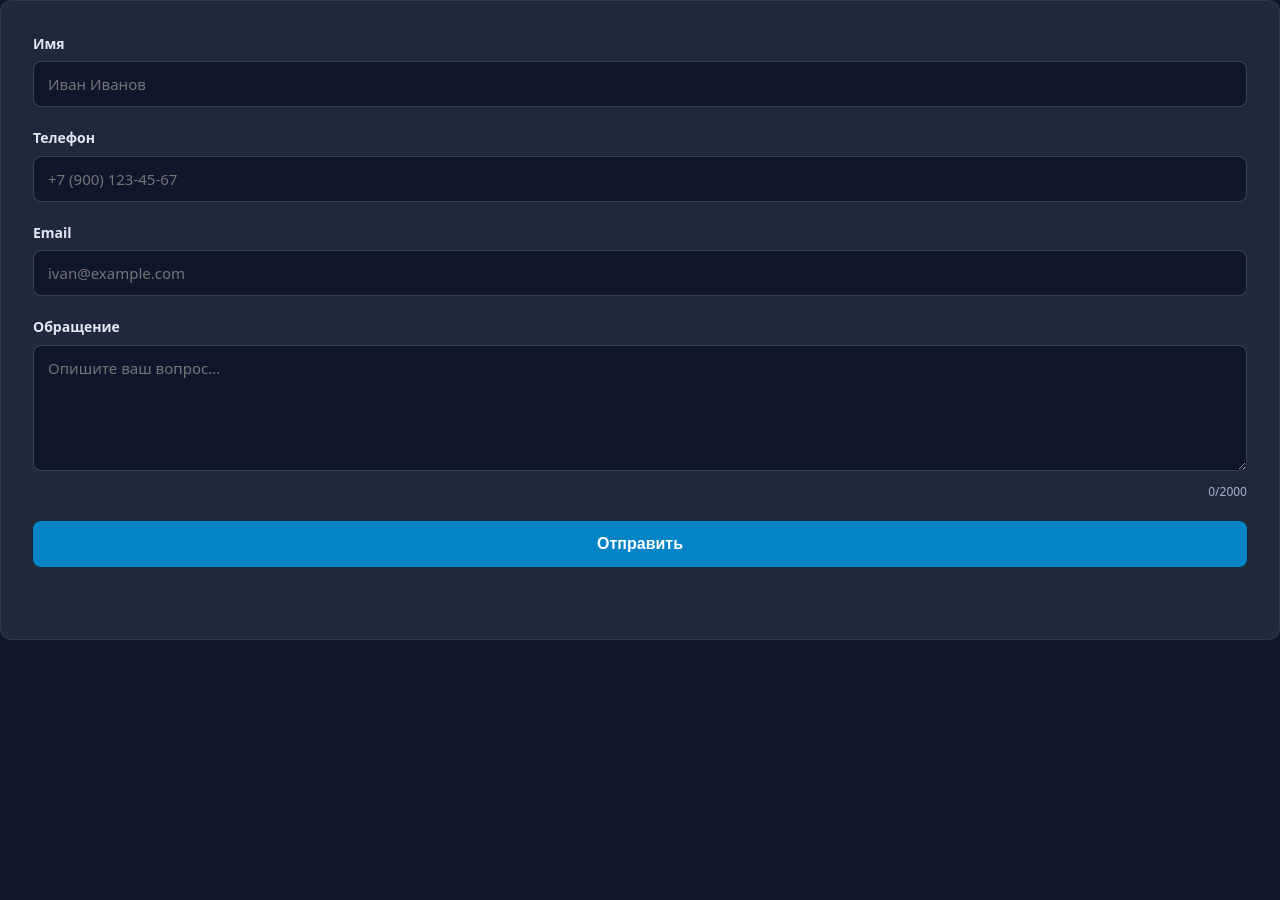
it: ContactForm › показывает ошибки при невалидном email и коротком комментарии
Type "Иван" into the field labelled "Имя" at (640,84), box [33, 61, 1247, 107]
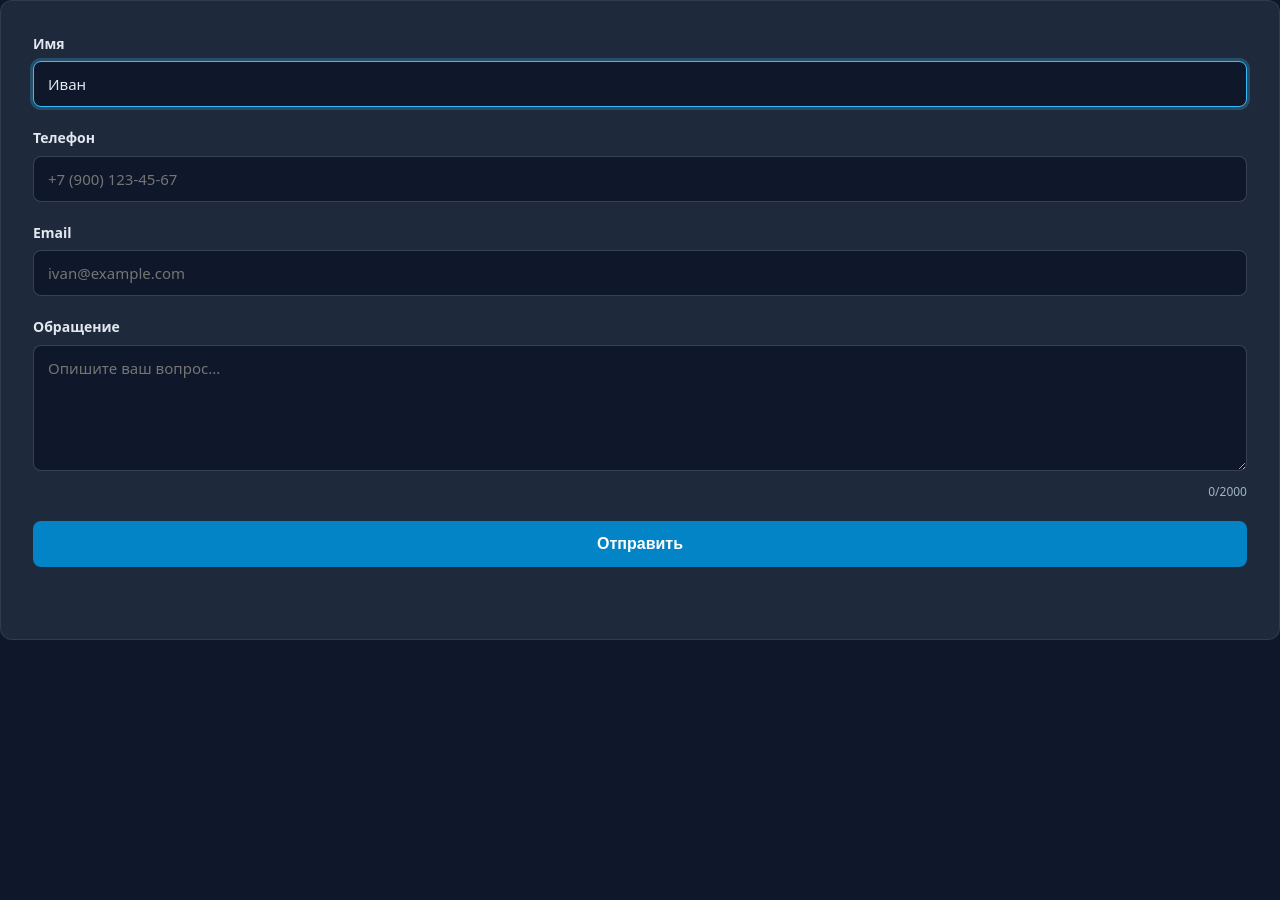
Type "+79001234567" into the field labelled "Телефон" at (640,179), box [33, 156, 1247, 202]
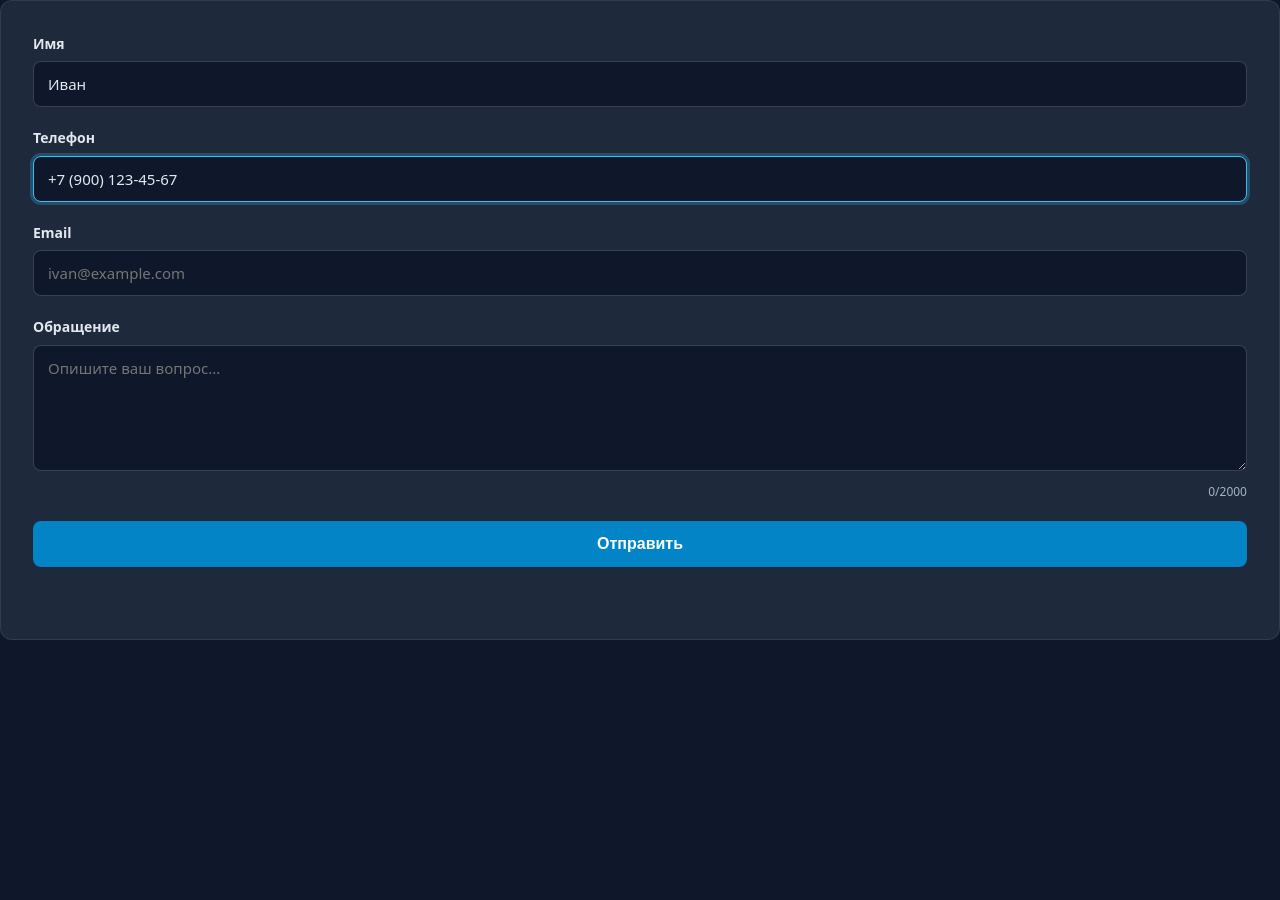
Type "not-an-email" into the field labelled "Email" at (640,273), box [33, 250, 1247, 296]
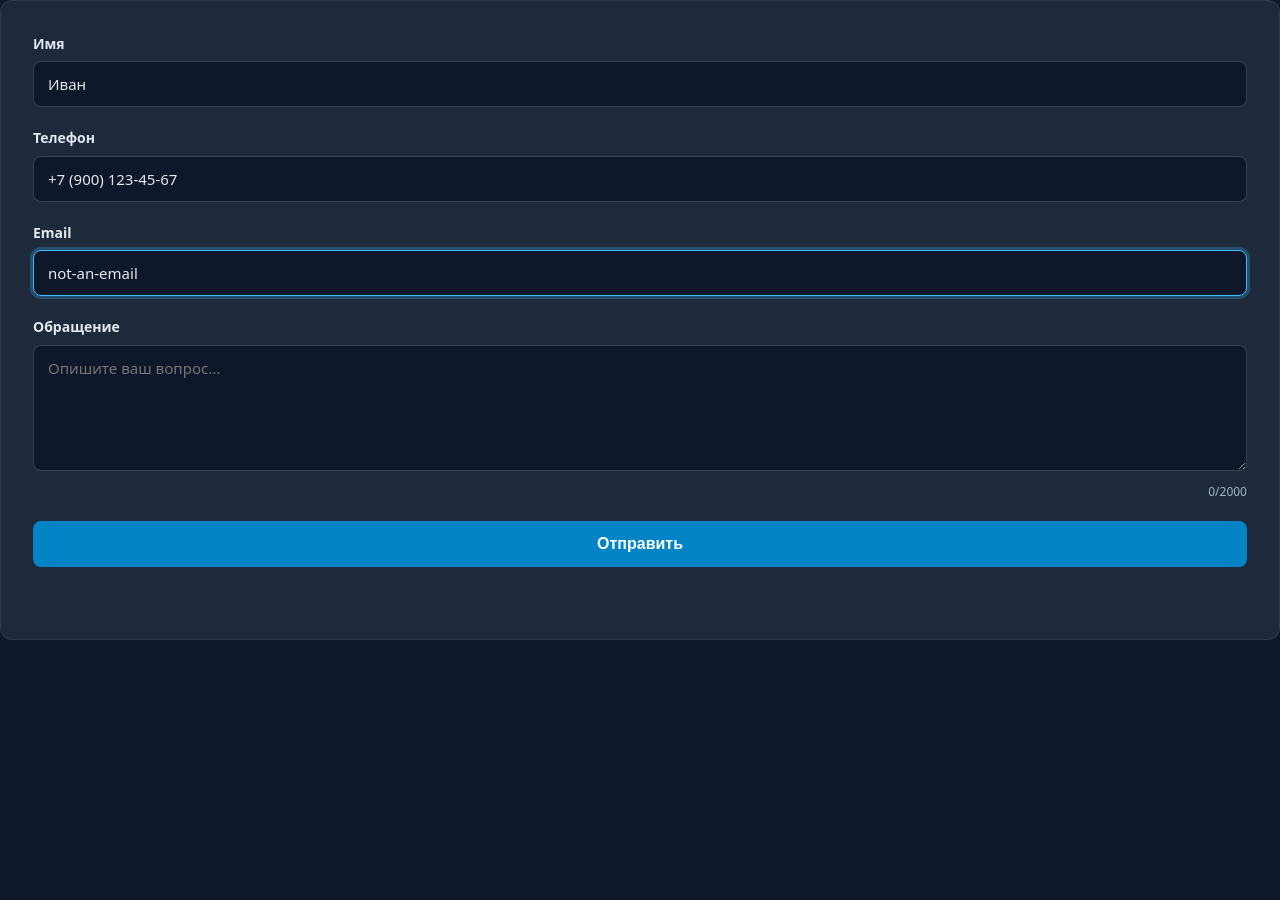
Type "коротко" into the text box labelled "Обращение" at (640,408), box [33, 345, 1247, 471]
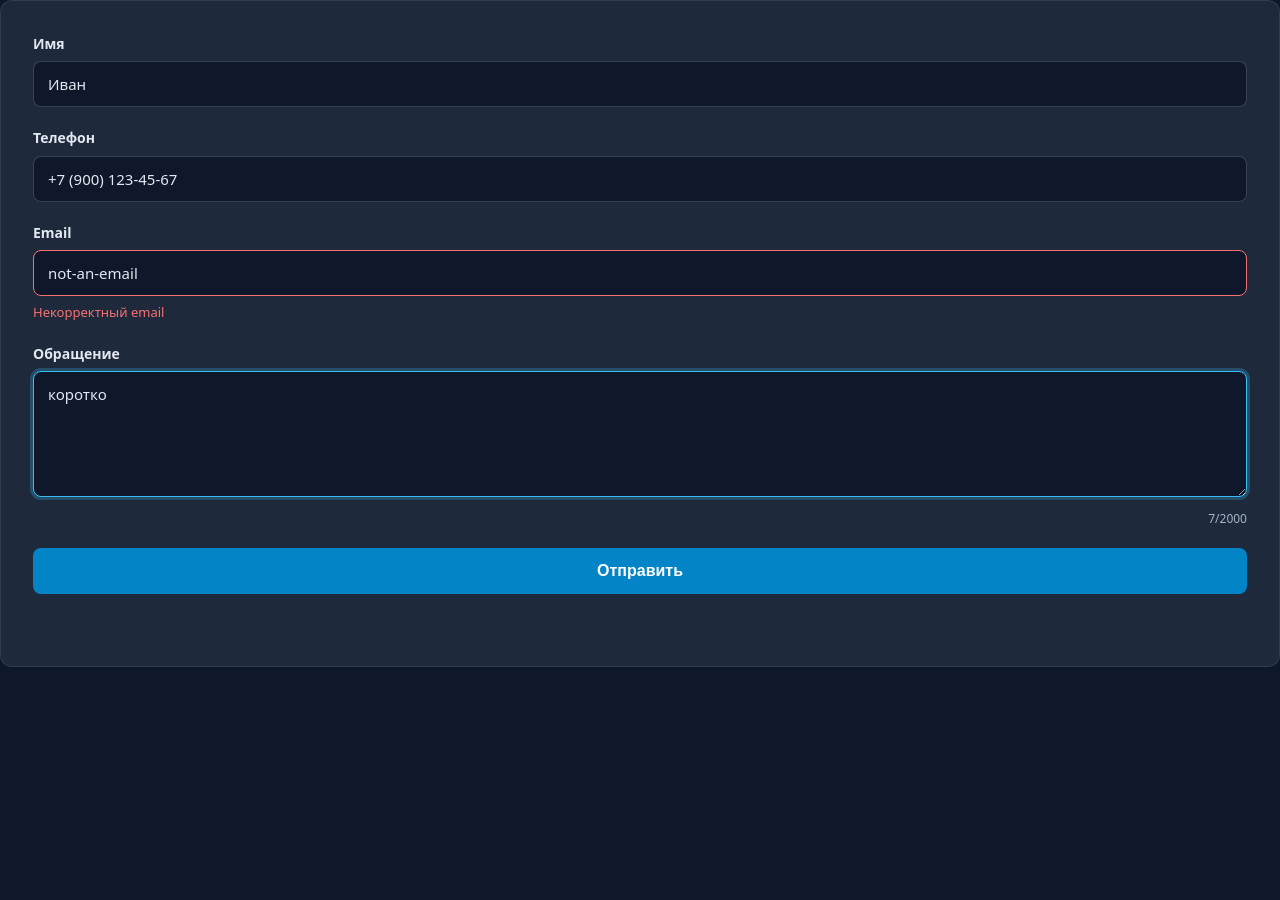
Click the button "Отправить" at (640,571), box [33, 548, 1247, 594]
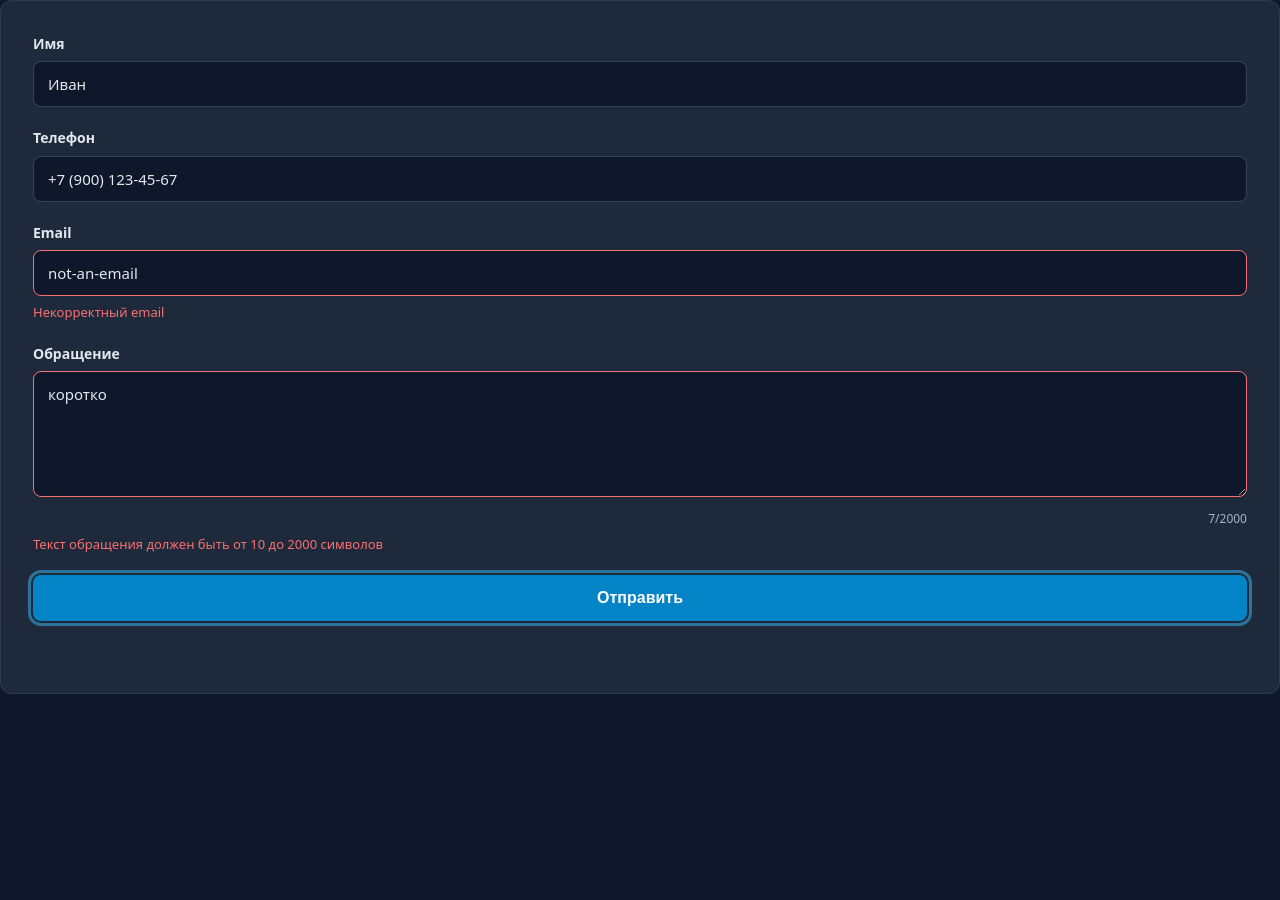
expect the text "Некорректный email" is shown: met, box [33, 303, 164, 321]
expect the text "Текст обращения должен быть от 10 до 2000 символов" is shown: met, box [33, 535, 383, 553]
